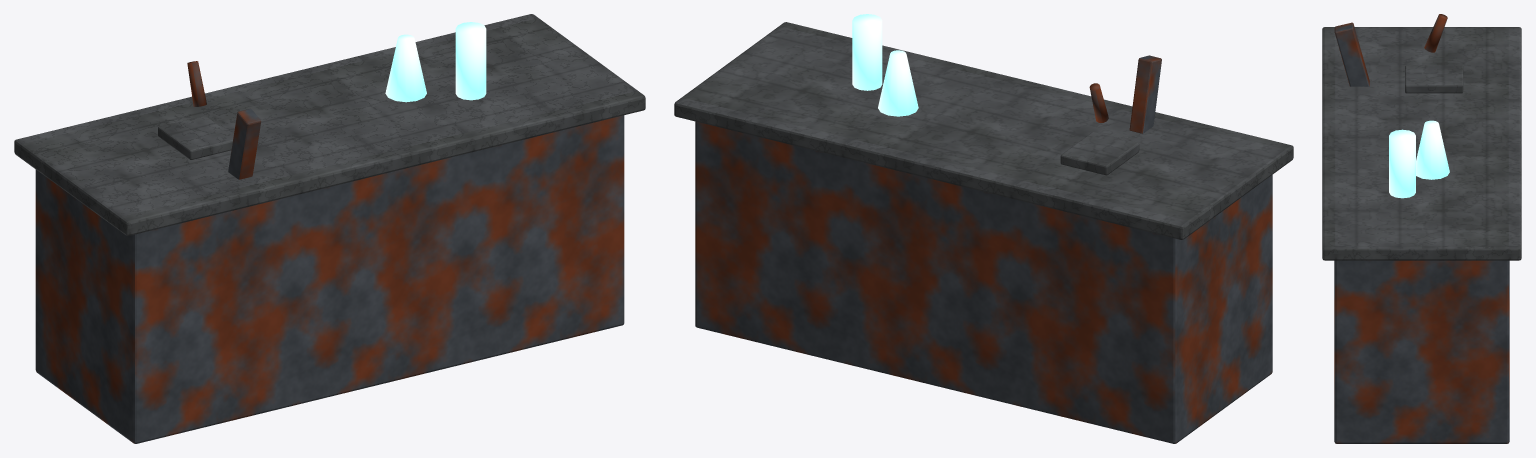
File: prop_lab_bench.glb
3 views of the same model, side by side, from view 1: azimuth 30°, elevation 25°; view 2: azimuth 150°, elevation 25°; view 3: azimuth 270°, elevation 25° (orthographic). The views are drawn at different scales.
Visible parts, largest first — view 1: CabinetUnder, CounterSlab, Flask2, ScopeBase, Flask1, ScopeArm; view 2: CabinetUnder, CounterSlab, Flask2, ScopeBase, Flask1, ScopeArm; view 3: CounterSlab, CabinetUnder, Flask2, ScopeBase, Flask1, ScopeArm, ScopeLens.
Part boxes in pixels (box(x1,y1,x2,y2)): CabinetUnder: box(35, 115, 624, 443); CounterSlab: box(14, 14, 645, 235); Flask2: box(455, 22, 486, 100); ScopeBase: box(158, 115, 233, 159); Flask1: box(385, 34, 426, 102); ScopeArm: box(228, 108, 261, 179); CabinetUnder: box(695, 121, 1272, 443); CounterSlab: box(674, 22, 1293, 239); Flask2: box(852, 14, 882, 90); ScopeBase: box(1060, 132, 1139, 175); Flask1: box(878, 50, 918, 116); ScopeArm: box(1129, 55, 1161, 133); CounterSlab: box(1322, 27, 1521, 260); CabinetUnder: box(1334, 260, 1509, 443); Flask2: box(1389, 129, 1415, 198); ScopeBase: box(1405, 65, 1463, 93); Flask1: box(1416, 120, 1449, 179); ScopeArm: box(1334, 22, 1369, 86); ScopeLens: box(1424, 14, 1447, 52).
Bounding box in the file's own units: 2.16 × 1.23 × 0.82.
3 materials, 2 textured.
